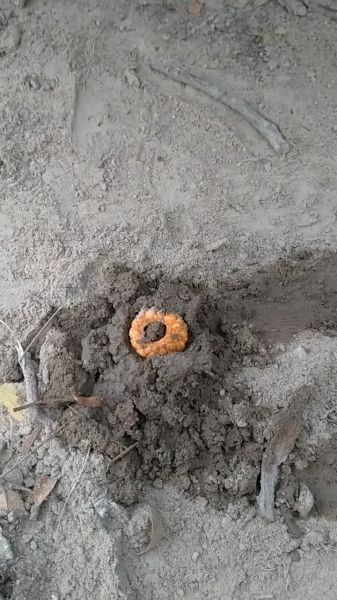eggs: (125, 302, 193, 368)
